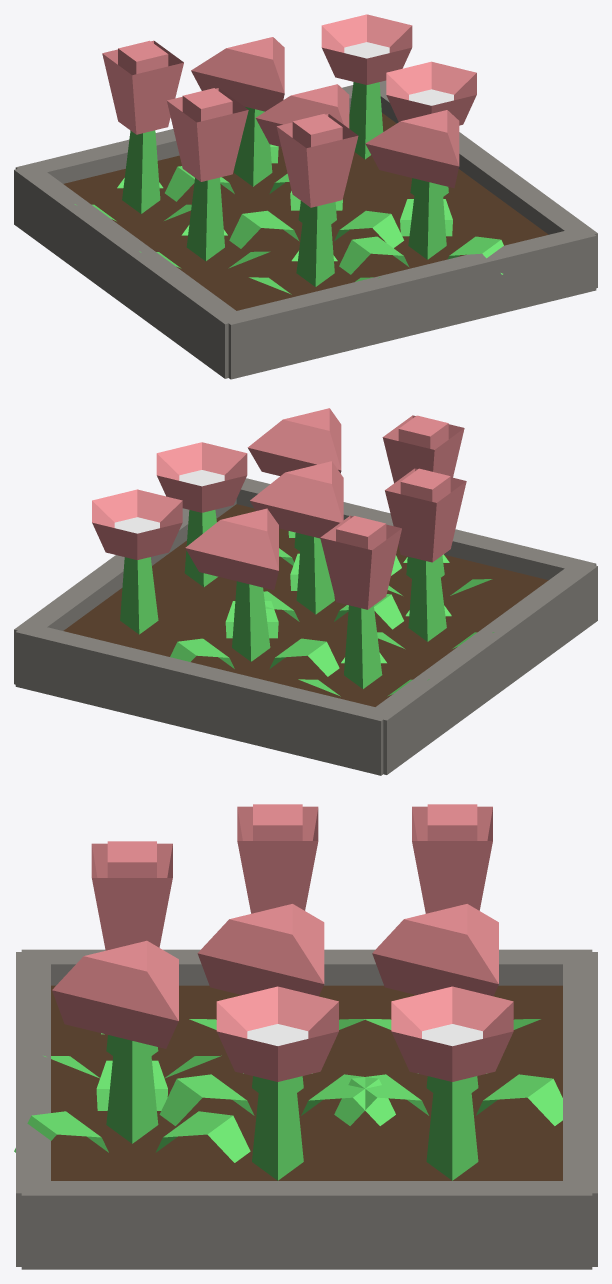
Rendered from flowerbed_roses.glb.
3 views of the same model, one above another, from view 1: azimuth 30°, elevation 25°; view 2: azimuth 150°, elevation 25°; view 3: azimuth 270°, elevation 25° (orthographic). The views are drawn at different scales.
Parts seen in each view (by area): view 1: bed_soil, flower_redA (×3), flower_redB (×3), flower_redC (×2); view 2: bed_soil, flower_redB (×3), flower_redA (×3), flower_redC (×2); view 3: bed_soil, flower_redB (×3), flower_redC (×2), flower_redA (×3).
Part boxes in pixels (x1=…): bed_soil: x1=14, y1=80, x2=597, y2=379; flower_redA (×3): x1=74, y1=40, x2=380, y2=294; flower_redB (×3): x1=165, y1=37, x2=503, y2=274; flower_redC (×2): x1=321, y1=14, x2=476, y2=196; bed_soil: x1=14, y1=478, x2=597, y2=775; flower_redB (×3): x1=170, y1=408, x2=403, y2=676; flower_redA (×3): x1=298, y1=415, x2=494, y2=696; flower_redC (×2): x1=92, y1=442, x2=247, y2=634; bed_soil: x1=16, y1=949, x2=597, y2=1269; flower_redB (×3): x1=14, y1=904, x2=562, y2=1162; flower_redC (×2): x1=216, y1=986, x2=513, y2=1180; flower_redA (×3): x1=43, y1=804, x2=540, y2=1078.
Size of the model in its own units: 1 by 0.4972 by 1.
